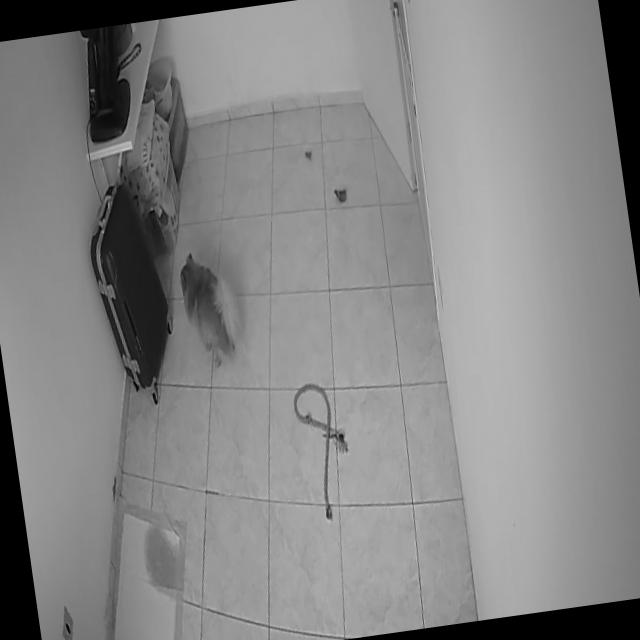squatting: (172, 242, 252, 376)
